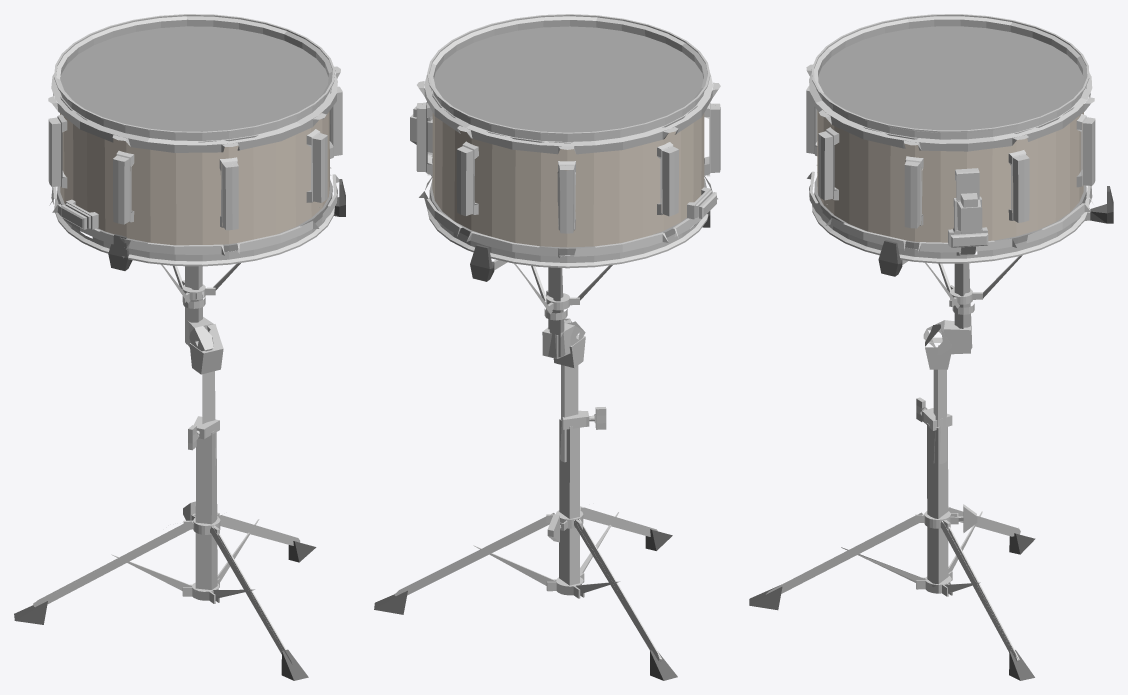
The model's file is snare.glb.
3 views of the same model, side by side, from view 1: azimuth 30°, elevation 25°; view 2: azimuth 150°, elevation 25°; view 3: azimuth 270°, elevation 25° (orthographic).
Parts seen in each view (by area): view 1: snare; view 2: snare; view 3: snare.
Boxes of the visible parts, x1,y1,x2,y2 form: snare: [14, 14, 345, 680]; snare: [374, 14, 720, 680]; snare: [749, 14, 1113, 680].
Bounding box in the file's own units: 2.21 × 3.81 × 2.34.
